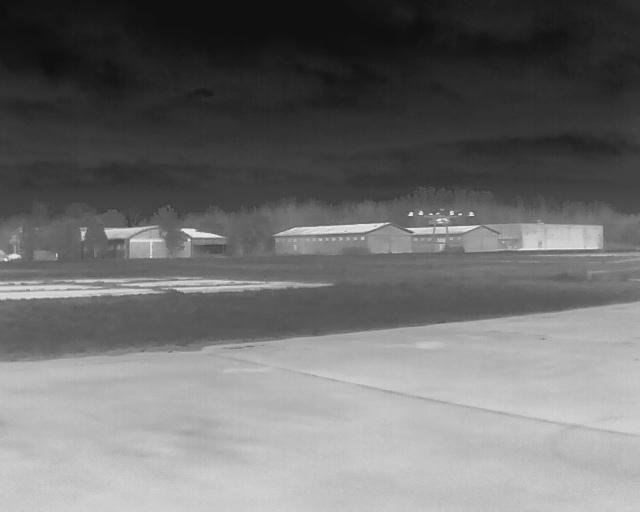drone: (399, 198, 479, 250)
